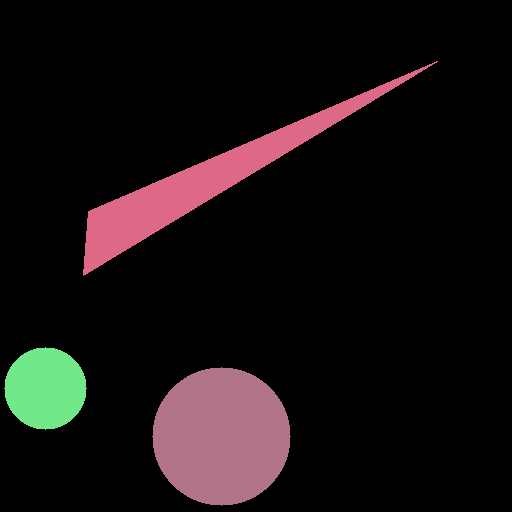circle: (152, 367, 290, 505), (4, 347, 86, 429)
triangle: (83, 61, 437, 275)
